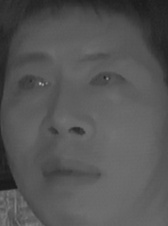eye: (85, 68, 129, 94), (10, 72, 55, 96)
mouth: (40, 151, 103, 191)
